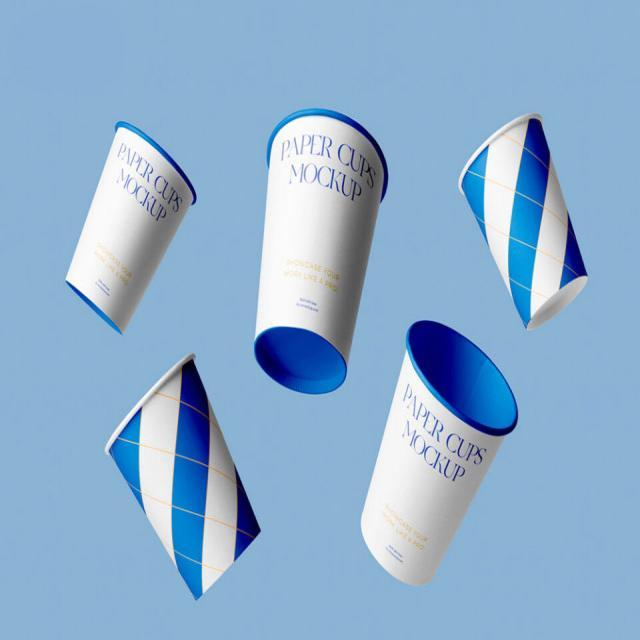trash: (358, 316, 522, 592), (252, 104, 391, 398), (102, 351, 262, 604), (457, 108, 591, 332), (62, 118, 198, 338)
